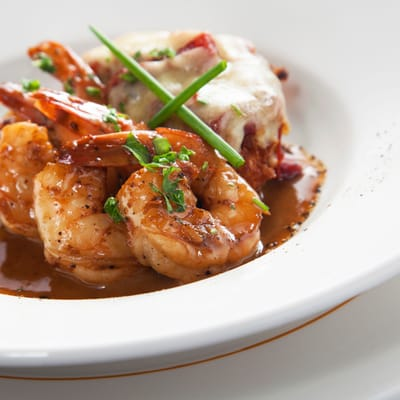soup: (0, 26, 326, 285)
